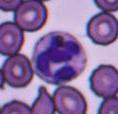N: (33, 30, 86, 84)
